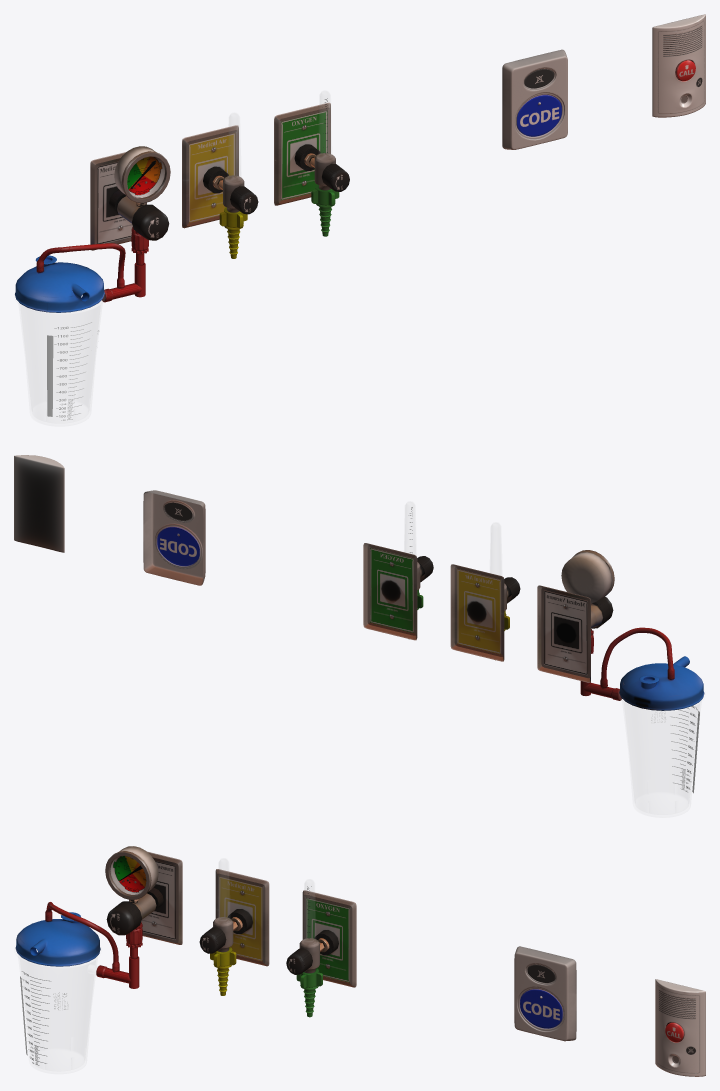
Rendered from powerboard_wall_equipment.fbx.
3 renders of one model, top to bottom at view 1: azimuth 30°, elevation 25°; view 2: azimuth 150°, elevation 25°; view 3: azimuth 330°, elevation 25°, orthographic. The views are drawn at different scales.
Parts seen in each view (by area): view 1: room_suction_container_L001, wall_emergency_button002, Call_button_panel, Air_Label, O2_Label, wall_suction_container_top, wall_suction_controls, O2, O003, Suction_hose_to_cannister, Guage, wall_suction_container_label_R002 (+4 smaller); view 2: room_suction_container_L001, wall_emergency_button002, O2_Label, Air_Label, wall_suction_controls, Call_button_panel, wall_suction_container_top, Guage, Suction_hose_to_cannister, wall_suction_container_label_R002; view 3: room_suction_container_L001, wall_emergency_button002, Call_button_panel, O2_Label, Air_Label, wall_suction_container_top, wall_suction_controls, O003, O2, Suction_hose_to_cannister, Guage, Guage_chrome_pieces (+4 smaller).
Boxes of the visible parts, bbox=[...] form: room_suction_container_L001: bbox=[18, 300, 102, 423]; wall_emergency_button002: bbox=[502, 49, 567, 149]; Call_button_panel: bbox=[652, 14, 705, 117]; Air_Label: bbox=[182, 125, 238, 228]; O2_Label: bbox=[274, 102, 330, 205]; wall_suction_container_top: bbox=[15, 255, 104, 312]; wall_suction_controls: bbox=[90, 152, 155, 250]; O2: bbox=[294, 144, 349, 236]; O003: bbox=[203, 166, 258, 258]; Suction_hose_to_cannister: bbox=[36, 227, 148, 302]; Guage: bbox=[114, 146, 164, 197]; wall_suction_container_label_R002: bbox=[47, 322, 99, 420]; room_suction_container_L001: bbox=[622, 699, 701, 814]; wall_emergency_button002: bbox=[143, 490, 205, 585]; O2_Label: bbox=[363, 543, 417, 640]; Air_Label: bbox=[450, 564, 504, 661]; wall_suction_controls: bbox=[537, 585, 590, 682]; Call_button_panel: bbox=[14, 455, 64, 552]; wall_suction_container_top: bbox=[619, 656, 704, 710]; Guage: bbox=[561, 552, 612, 603]; Suction_hose_to_cannister: bbox=[580, 627, 674, 700]; wall_suction_container_label_R002: bbox=[651, 705, 699, 793]; room_suction_container_L001: bbox=[18, 955, 97, 1071]; wall_emergency_button002: bbox=[514, 946, 576, 1041]; Call_button_panel: bbox=[655, 979, 705, 1076]; O2_Label: bbox=[302, 890, 356, 987]; Air_Label: bbox=[215, 869, 269, 966]; wall_suction_container_top: bbox=[15, 912, 100, 966]; wall_suction_controls: bbox=[119, 851, 182, 944]; O003: bbox=[199, 909, 252, 995]; O2: bbox=[286, 930, 338, 1017]; Suction_hose_to_cannister: bbox=[45, 902, 142, 988]; Guage: bbox=[110, 846, 158, 894]; Guage_chrome_pieces: bbox=[105, 851, 156, 919].
Bounding box in the file's own units: 29.11 × 10.15 × 3.41.
Materials: 16 (13 with a texture image).
